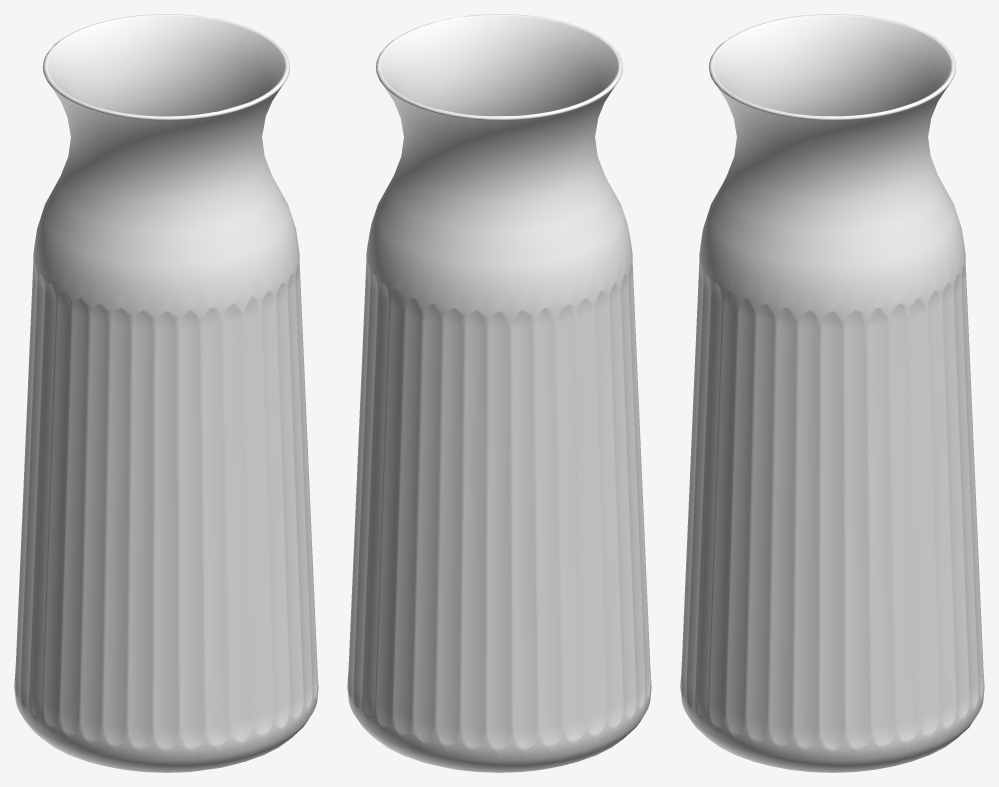
The model's file is vardagen_karafka_70592409.glb.
The picture shows the model from 3 angles, left to right: view 1: azimuth 30°, elevation 25°; view 2: azimuth 150°, elevation 25°; view 3: azimuth 270°, elevation 25°; orthographic projection.
Parts seen in each view (by area): view 1: vardagen_karafka_70592409; view 2: vardagen_karafka_70592409; view 3: vardagen_karafka_70592409.
Part boxes in pixels (x1,y1,x2,y2): vardagen_karafka_70592409: (14,14,318,772); vardagen_karafka_70592409: (347,14,651,772); vardagen_karafka_70592409: (680,14,984,772).
Bounding box in the file's own units: 0.0947 × 0.225 × 0.0947.
1 material, 1 textured.
